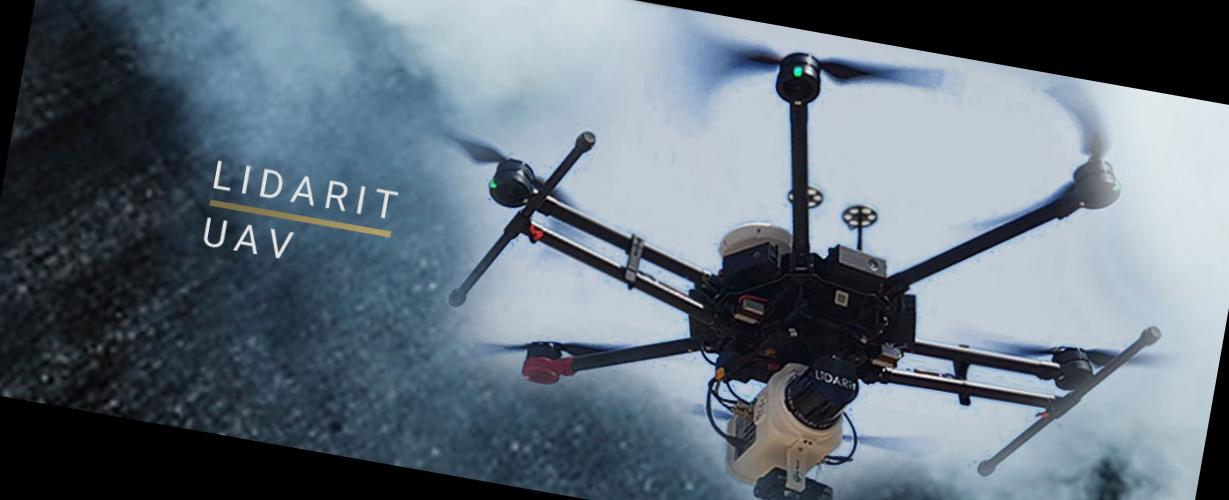drone: (386, 0, 1227, 500)
